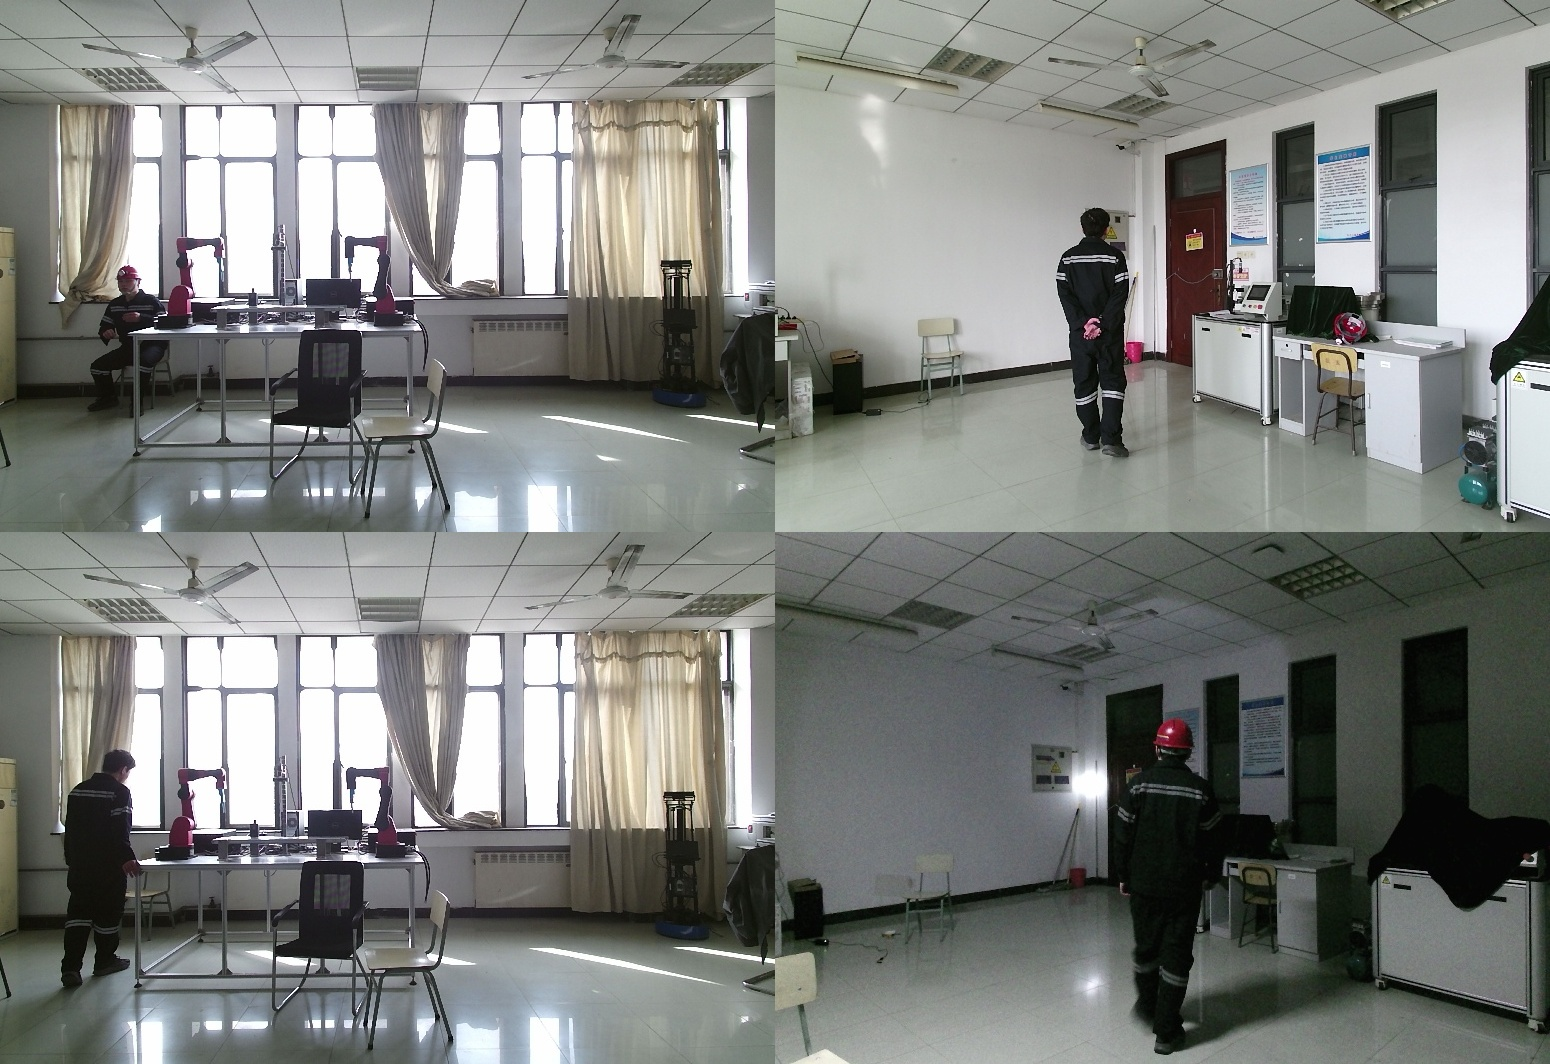person: (1108, 717, 1242, 1064), (1054, 209, 1141, 460), (56, 749, 143, 985), (82, 265, 179, 413)
